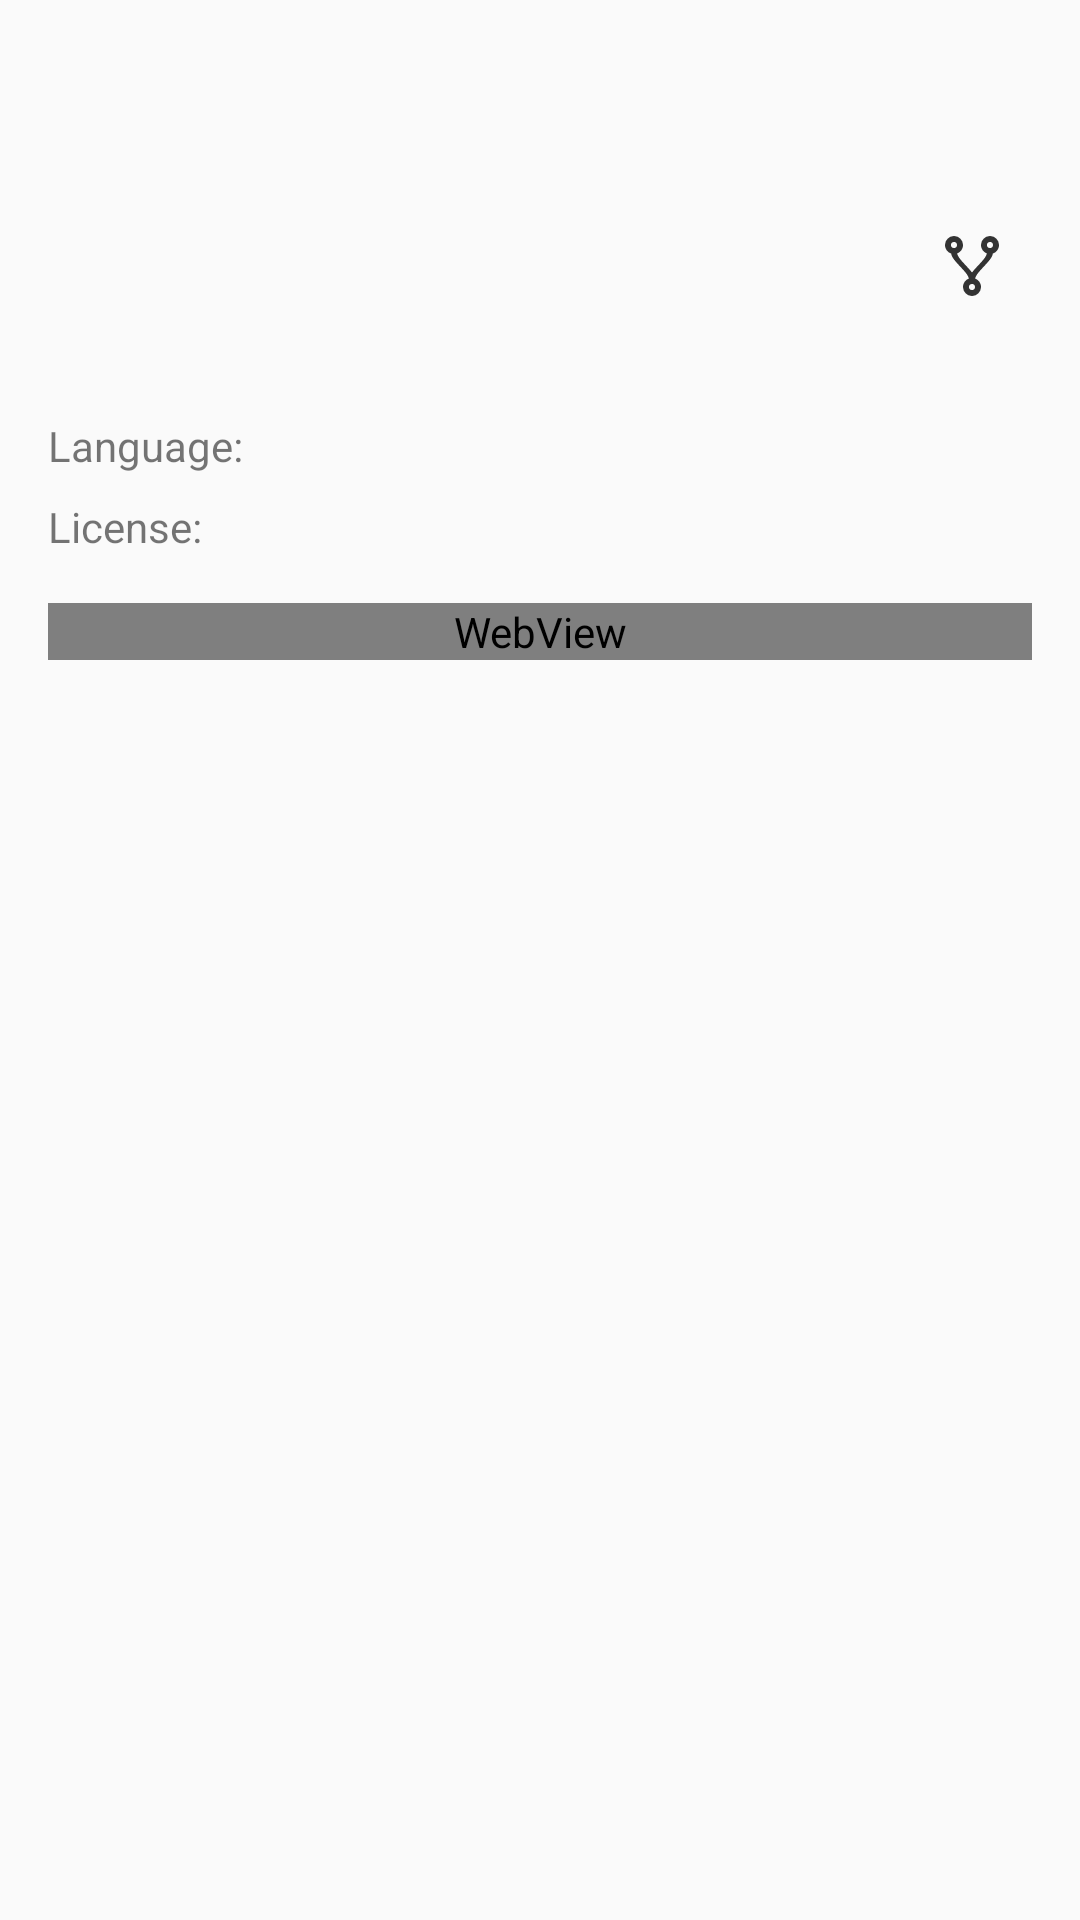

Screen size 1080x1920. Icon name, then its box in pixels as (x1=x1, y1=y1, x2=x2, y2=y2):
fork image: (x1=945, y1=236, x2=999, y2=296)
